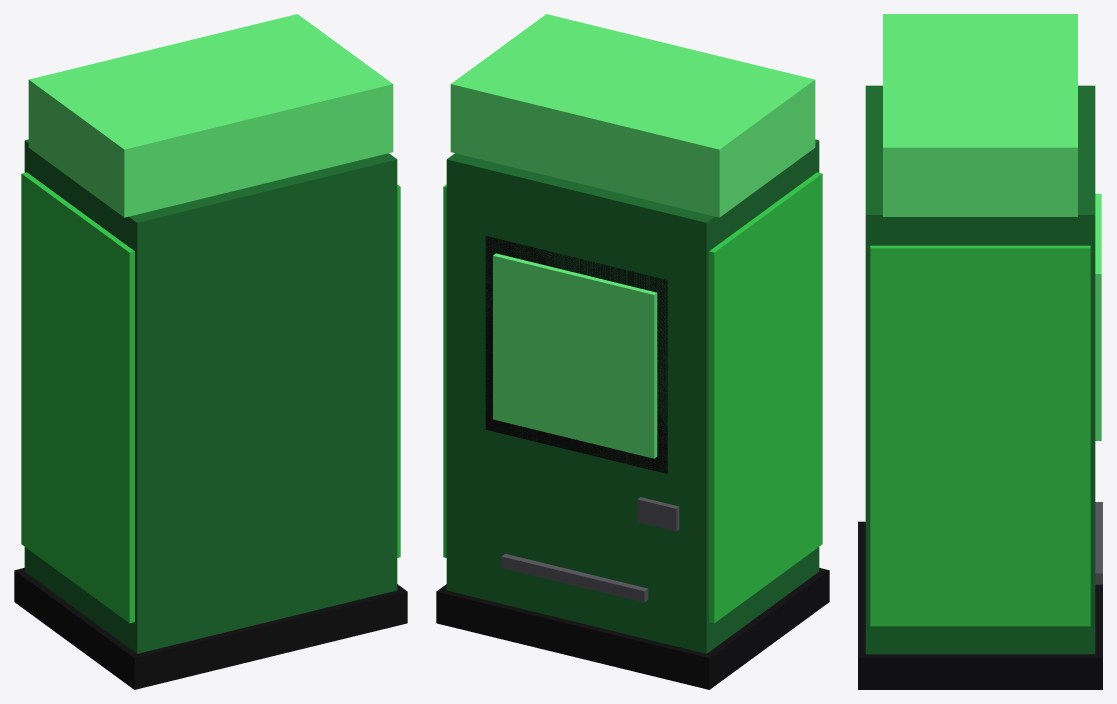
The model's file is perk_speed_cola.obj.
3 renders of one model, left to right at view 1: azimuth 30°, elevation 25°; view 2: azimuth 150°, elevation 25°; view 3: azimuth 270°, elevation 25°, orthographic.
Parts seen in each view (by area): view 1: perk_machine; view 2: perk_machine; view 3: perk_machine.
Boxes of the visible parts, box(x1,y1,x2,y2) form: perk_machine: box(14, 14, 407, 689); perk_machine: box(436, 14, 829, 689); perk_machine: box(858, 14, 1102, 689).
Bounding box in the file's own units: 1.26 × 2.34 × 0.96.
